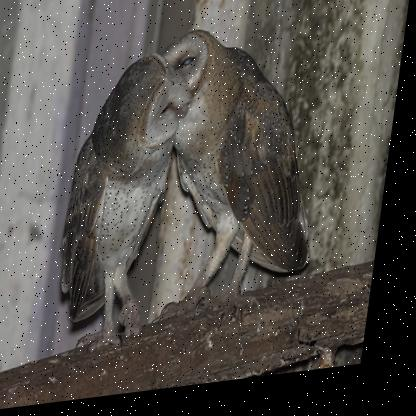Burung: (139, 24, 348, 317), (57, 53, 199, 357)
